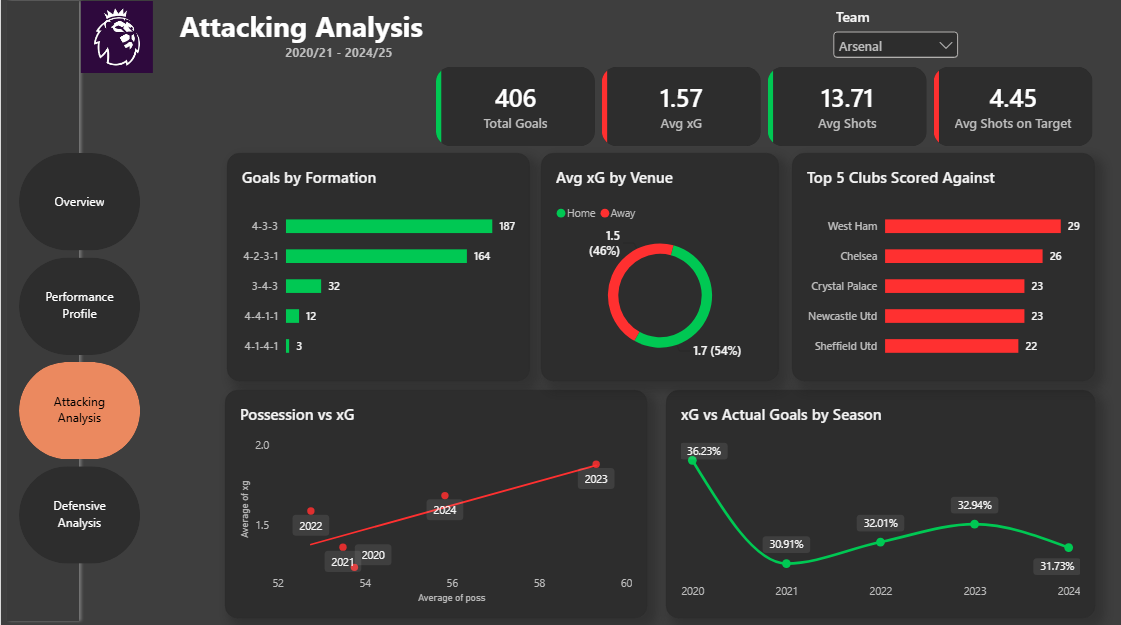

This screenshot's page, from the dashboard's own definition file:
{"tool":"powerbi","page":{"name":"Attacking Analysis","canvas":[1280,720],"ordinal":2},"visuals":[{"type":"cardVisual","fields":{"Data":["DAX Measures.Total Goals","DAX Measures.Avg xG","DAX Measures.Avg Shots","DAX Measures.Avg Shots on Target"]},"box":[495.6,82,750.8,90],"z":0},{"type":"textbox","box":[160,12.5,443.2,69.5],"z":1000},{"type":"shape","box":[0,0,95.7,720],"z":2000},{"type":"lineChart","title":"xG vs Actual Goals by Season","fields":{"Category":["Fact Matches.season"],"Y":["DAX Measures.Shot Accuracy"]},"box":[757.6,450,488.7,259.7],"z":3000},{"type":"barChart","title":"Goals by Formation","fields":{"Category":["Fact Matches.formation"],"Y":["DAX Measures.Total Goals"]},"box":[257.5,180,345.2,259.7],"z":5000},{"type":"slicer","fields":{"Values":["Fact Matches.team"]},"box":[943.3,13.7,151.5,68.4],"z":6000},{"type":"scatterChart","title":"Possession vs xG","fields":{"Category":["Fact Matches.season"],"X":["Avg(Fact Matches.poss)"],"Y":["Avg(Fact Matches.xg)"]},"box":[255.2,450,480.8,259.7],"z":8001},{"type":"donutChart","title":"Avg xG by Venue","fields":{"Category":["Fact Matches.venue"],"Y":["Avg(Fact Matches.xg)"]},"box":[615.2,180,271.1,259.7],"z":8003},{"type":"barChart","title":"Top 5 Clubs Scored Against","fields":{"Category":["Fact Matches.opponent"],"Y":["DAX Measures.Total Goals"]},"box":[901.1,180,345.2,259.7],"z":8004},{"type":"pageNavigator","box":[20.5,180,139,468.2],"z":8005},{"type":"image","box":[90,6.8,84.3,82],"z":8006}]}

Visuals, with their boxes in screenshot pixels (x1, y1, x2, y2), scaled from the page's 1280x720 canvas onto the 1121x625 screenshot:
cardVisual - DAX Measures.Total Goals x DAX Measures.Avg xG: BBox(434, 71, 1092, 149)
textbox: BBox(140, 11, 528, 71)
shape: BBox(0, 0, 84, 624)
"xG vs Actual Goals by Season" lineChart: BBox(663, 391, 1091, 616)
"Goals by Formation" barChart: BBox(226, 156, 528, 382)
slicer - Fact Matches.team: BBox(826, 12, 959, 71)
"Possession vs xG" scatterChart: BBox(223, 391, 645, 616)
"Avg xG by Venue" donutChart: BBox(539, 156, 776, 382)
"Top 5 Clubs Scored Against" barChart: BBox(789, 156, 1091, 382)
pageNavigator: BBox(18, 156, 140, 563)
image: BBox(79, 6, 153, 77)
